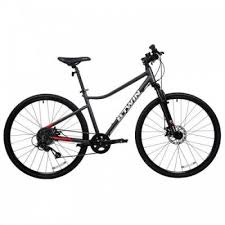bicycle: (2, 40, 222, 181)
